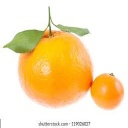orange: (16, 23, 96, 107)
